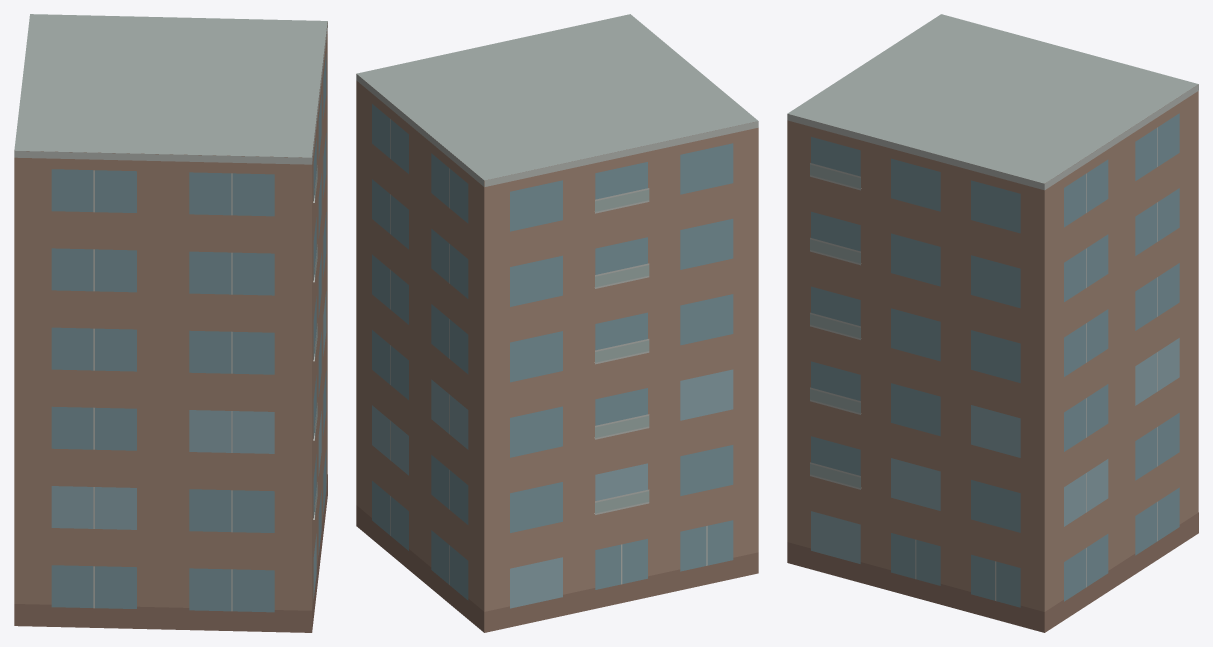
The model's file is survey-upis-32637996.glb.
3 renders of one model, left to right at view 1: azimuth 30°, elevation 25°; view 2: azimuth 150°, elevation 25°; view 3: azimuth 270°, elevation 25°, orthographic. The views are drawn at different scales.
Parts seen in each view (by area): view 1: survey-upis-32637996.tmp; view 2: survey-upis-32637996.tmp; view 3: survey-upis-32637996.tmp.
Part boxes in pixels (bbox=[...]): survey-upis-32637996.tmp: bbox=[14, 14, 327, 632]; survey-upis-32637996.tmp: bbox=[356, 14, 758, 632]; survey-upis-32637996.tmp: bbox=[787, 14, 1198, 632].
Bounding box in the file's own units: 13.46 × 16.6 × 13.79.
